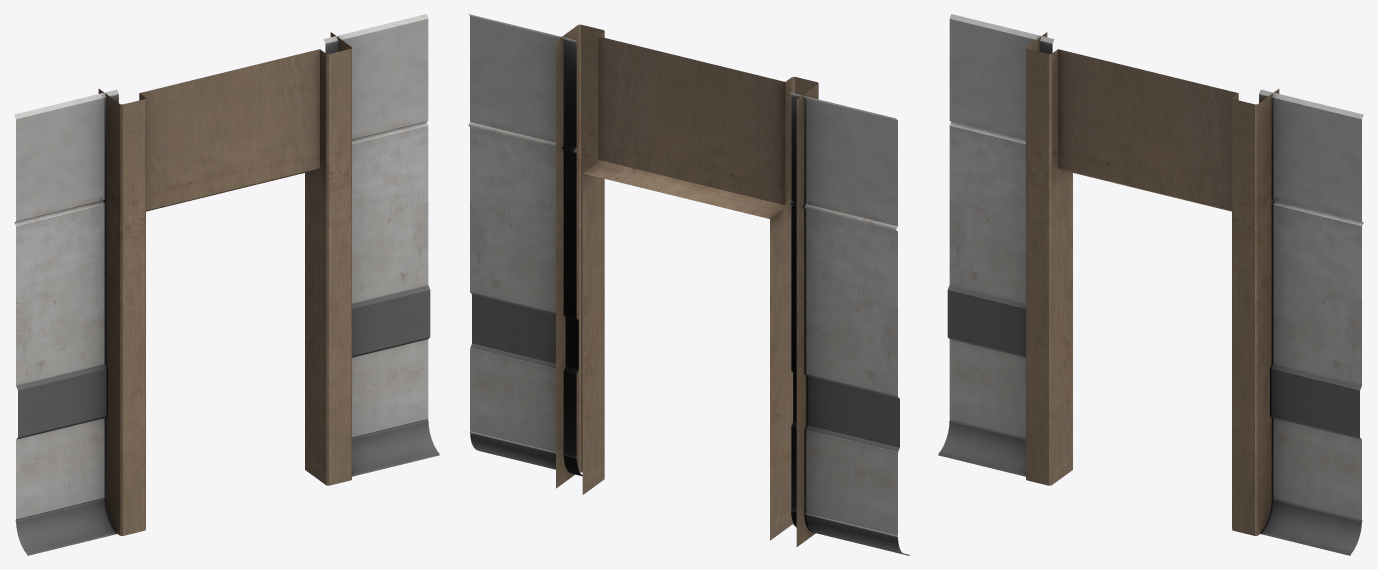
Rendered from hospital_corridor_doorway.dae.
3 views of the same model, side by side, from view 1: azimuth 30°, elevation 25°; view 2: azimuth 150°, elevation 25°; view 3: azimuth 330°, elevation 25° (orthographic). The views are drawn at different scales.
Visible parts, largest first — view 1: doorway; view 2: doorway; view 3: doorway.
Boxes of the visible parts, left/top/right/bottom form: doorway: left=14, top=14, right=439, bottom=555; doorway: left=468, top=14, right=909, bottom=555; doorway: left=938, top=14, right=1363, bottom=555.
Size of the model in its own units: 4 by 4 by 0.375.
